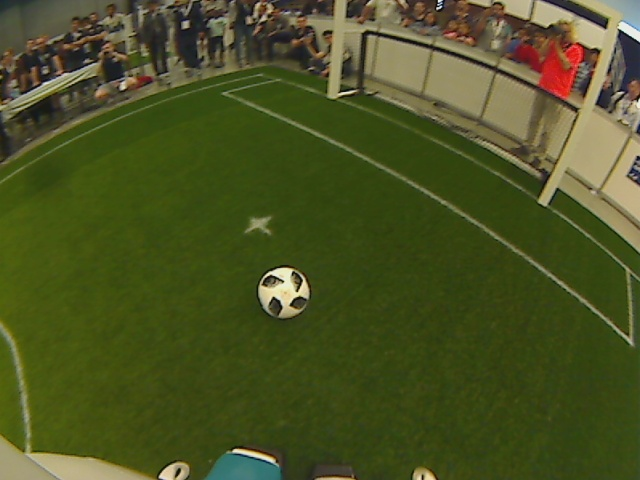ball: (256, 264, 312, 320)
